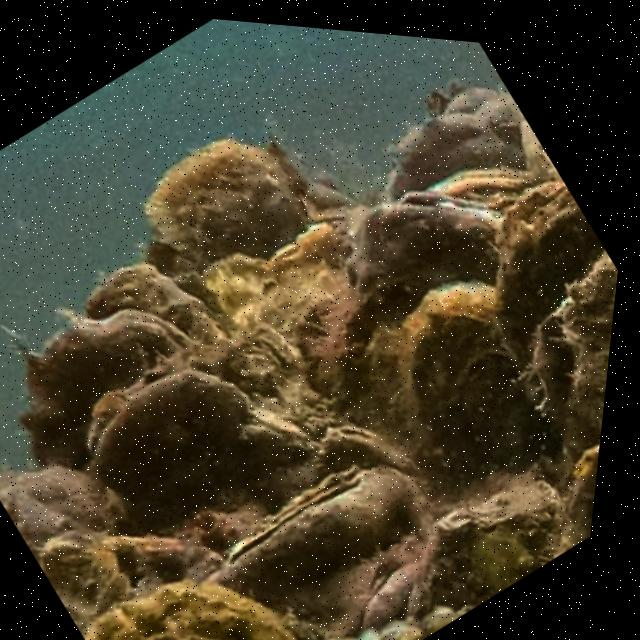Oyster-Closed: (218, 462, 433, 640), (27, 304, 193, 466), (317, 420, 416, 476)
Oyster-Indeterminate: (84, 365, 322, 533), (146, 130, 312, 268), (492, 207, 606, 376), (411, 309, 537, 458), (416, 501, 559, 613), (85, 579, 299, 640), (560, 253, 618, 458), (87, 262, 228, 343), (15, 463, 121, 533), (333, 604, 472, 640), (558, 450, 599, 555)
Oyster-Open: (379, 189, 505, 291)
